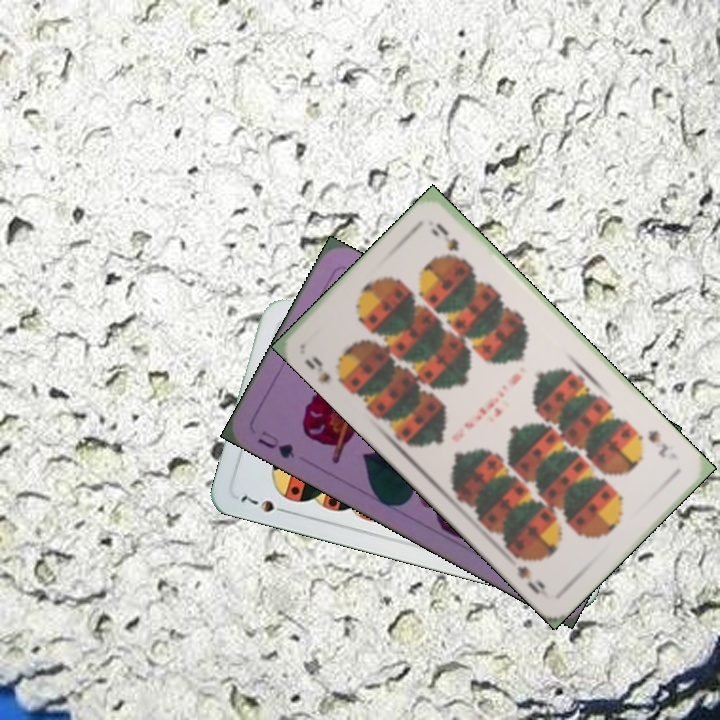GU: (253, 427, 298, 461)
S7: (237, 491, 292, 516)
S9: (300, 352, 349, 391), (644, 425, 671, 461)
